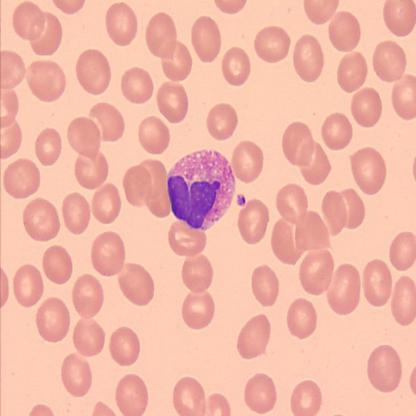Eosinophil: (166, 149, 236, 234)
